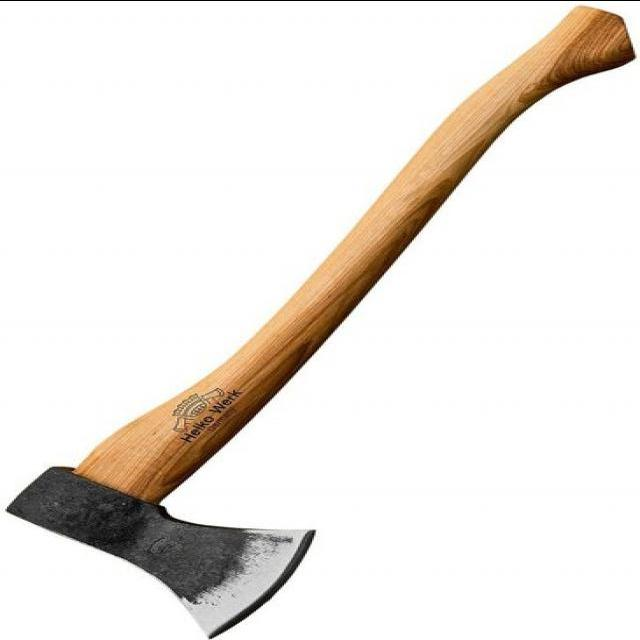axe: (1, 6, 633, 640)
